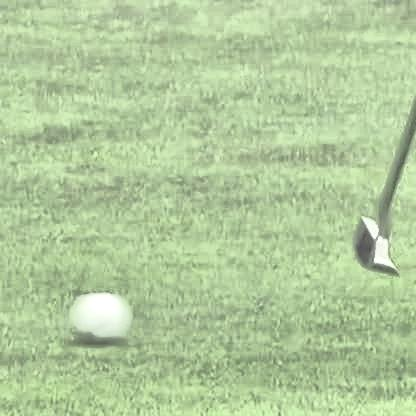golfball: (71, 295, 127, 343)
